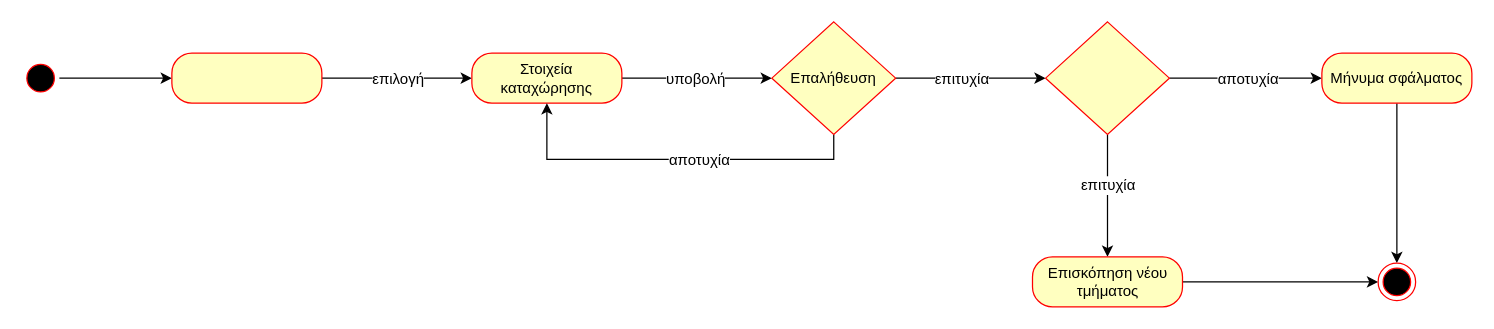
Some shapes in this 1494 by 329 pixel diagram are drawn without their labels. Each missing label, with the centre of its shape:
"Αποθήκευση" belongs at point (1106, 77).
"Δημιουργία τμήματος" belongs at point (246, 77).
